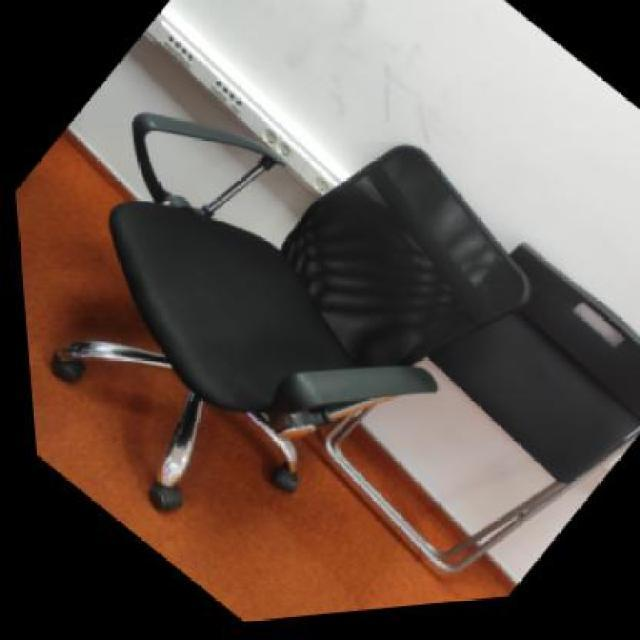chair: (51, 112, 638, 578)
